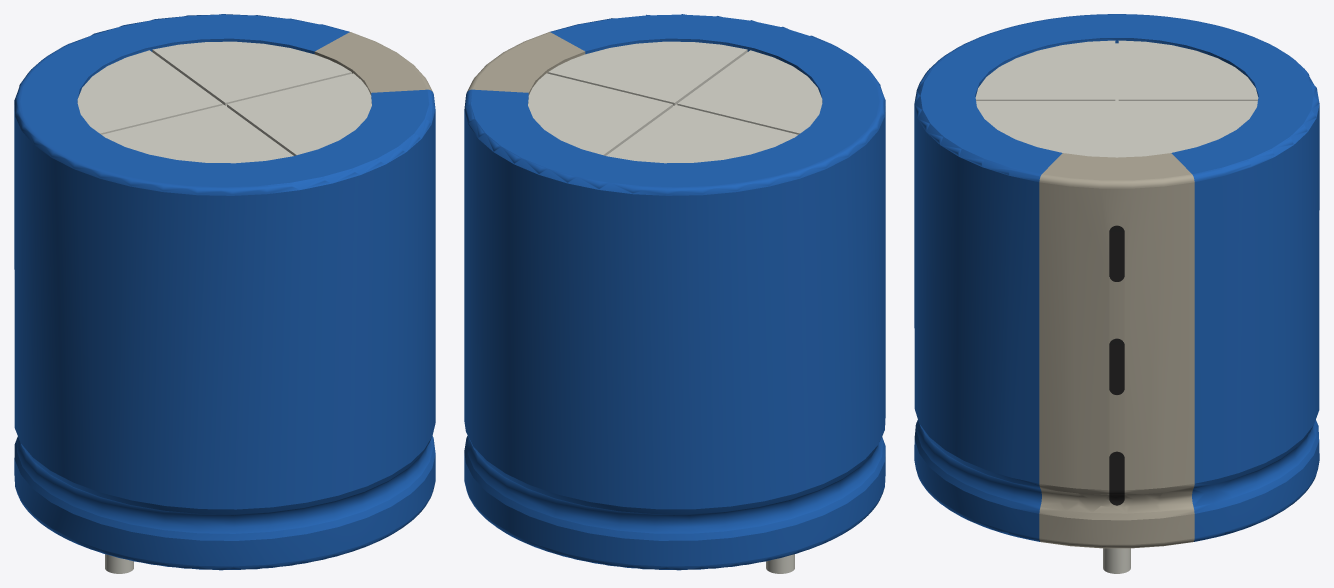
File: kc-cp_radial_d13.0mm_p7.50mm.glb
3 renders of one model, left to right at view 1: azimuth 30°, elevation 25°; view 2: azimuth 150°, elevation 25°; view 3: azimuth 270°, elevation 25°, orthographic. The views are drawn at different scales.
Visible parts, largest first — view 1: 0_0.16666666666666666_0.5_0, 0.6666666666666666_0.6666666666666666_0.5833333333333334_0.8, 0.4166666666666667_0.4166666666666667_0.3333333333333333_0; view 2: 0_0.16666666666666666_0.5_0, 0.6666666666666666_0.6666666666666666_0.5833333333333334_0.8, 0.4166666666666667_0.4166666666666667_0.3333333333333333_0; view 3: 0_0.16666666666666666_0.5_0, 0.4166666666666667_0.4166666666666667_0.3333333333333333_0, 0.6666666666666666_0.6666666666666666_0.5833333333333334_0.8, 0_0_0_0.
Part boxes in pixels (<box>): 0_0.16666666666666666_0.5_0: <box>14,14,435,570</box>; 0.6666666666666666_0.6666666666666666_0.5833333333333334_0.8: <box>77,41,371,573</box>; 0.4166666666666667_0.4166666666666667_0.3333333333333333_0: <box>314,32,432,95</box>; 0_0.16666666666666666_0.5_0: <box>464,14,885,570</box>; 0.6666666666666666_0.6666666666666666_0.5833333333333334_0.8: <box>528,41,822,573</box>; 0.4166666666666667_0.4166666666666667_0.3333333333333333_0: <box>467,32,585,95</box>; 0_0.16666666666666666_0.5_0: <box>914,14,1319,541</box>; 0.4166666666666667_0.4166666666666667_0.3333333333333333_0: <box>1039,153,1194,548</box>; 0.6666666666666666_0.6666666666666666_0.5833333333333334_0.8: <box>975,40,1258,573</box>; 0_0_0_0: <box>1109,225,1124,505</box>.
Size of the model in its own units: 1.3 by 1.5 by 1.3.
